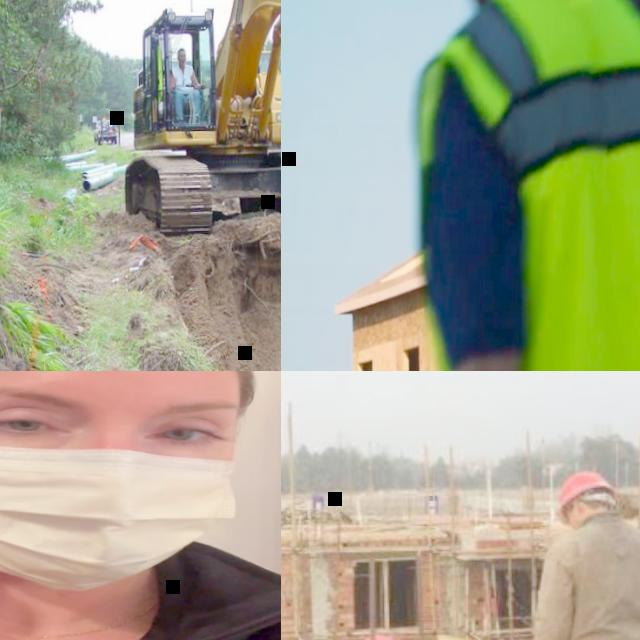Hardhat: (555, 470, 617, 513), (354, 633, 405, 640)
Mask: (0, 438, 246, 579)
NO-Hardhat: (176, 47, 186, 56)
NO-Mask: (564, 503, 582, 530), (177, 56, 186, 65)
NO-Safety Vest: (562, 518, 640, 640), (172, 66, 194, 89)
Person: (415, 0, 640, 371), (0, 371, 281, 640), (530, 466, 640, 640), (169, 46, 204, 121)
Safety Vest: (406, 0, 640, 371)
vehicle: (111, 0, 281, 371), (92, 116, 116, 147)
